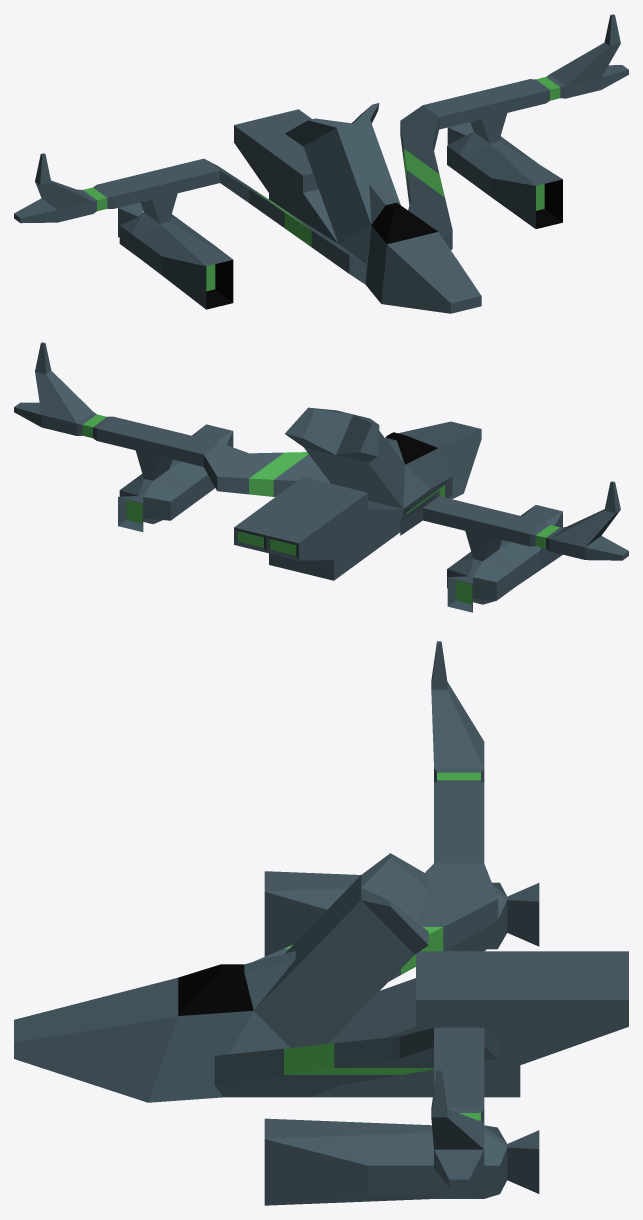
Rendered from SpaceShipV1.obj.
3 renders of one model, top to bottom at view 1: azimuth 30°, elevation 25°; view 2: azimuth 150°, elevation 25°; view 3: azimuth 270°, elevation 25°, orthographic. The views are drawn at different scales.
Parts seen in each view (by area): view 1: Cube; view 2: Cube; view 3: Cube.
Part boxes in pixels (x1,y1,x2,y2): Cube: [14, 14, 628, 313]; Cube: [14, 342, 628, 612]; Cube: [14, 641, 628, 1205].
Size of the model in its own units: 18.75 by 4.15 by 10.67.
Materials: 1 (1 with a texture image).
